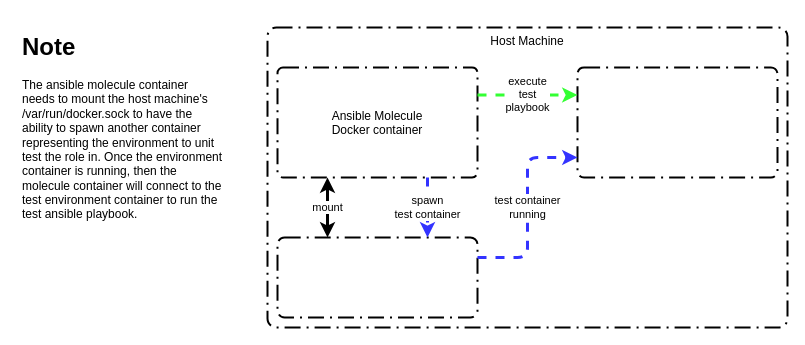
This 805x345 diagram has some shape labels left out. The centre of each missing label's shape, as x and y in pixels:
"/var/run/docker.sock" goes at (x=377, y=277).
"Debian Unit Test Environment" goes at (x=677, y=122).
